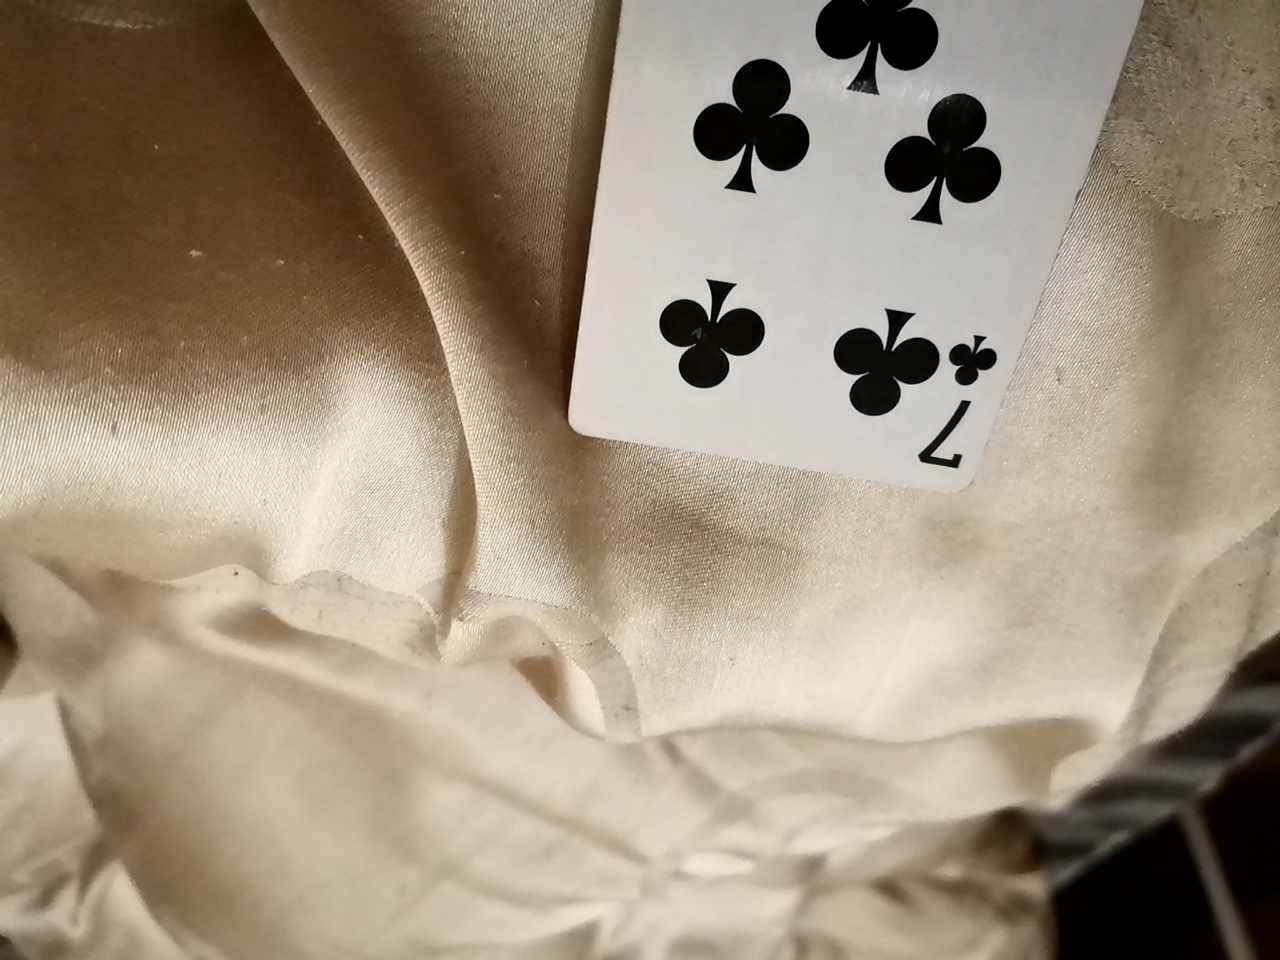mh 7: (567, 3, 1103, 503)
